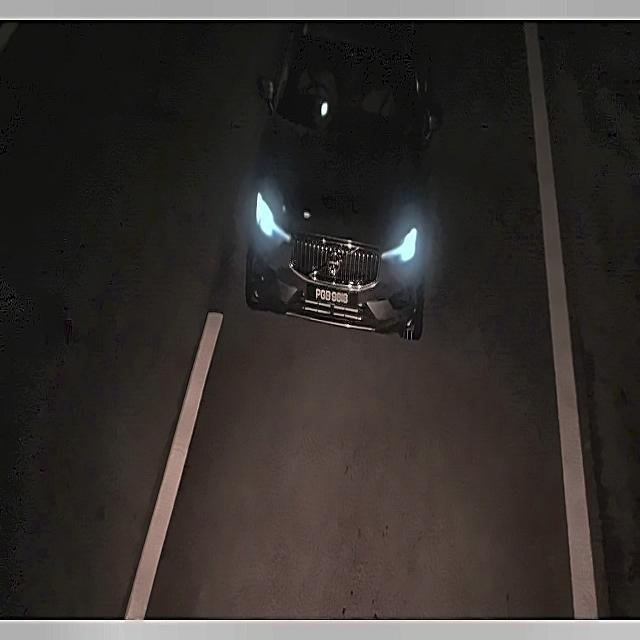car: (311, 283, 354, 311)
